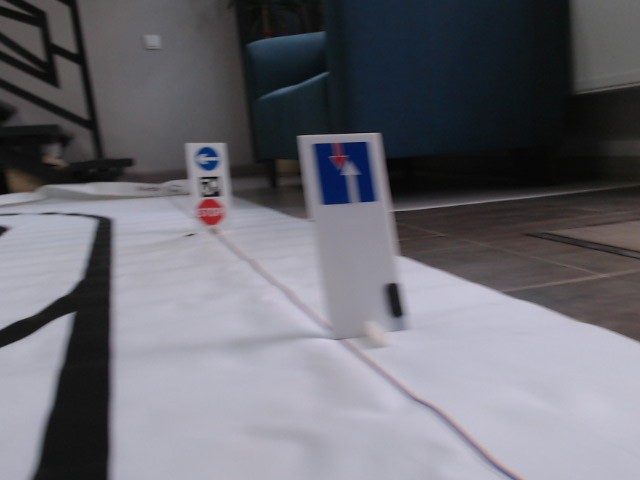Stop: (197, 199, 223, 224)
priority_movement: (312, 142, 377, 205)
